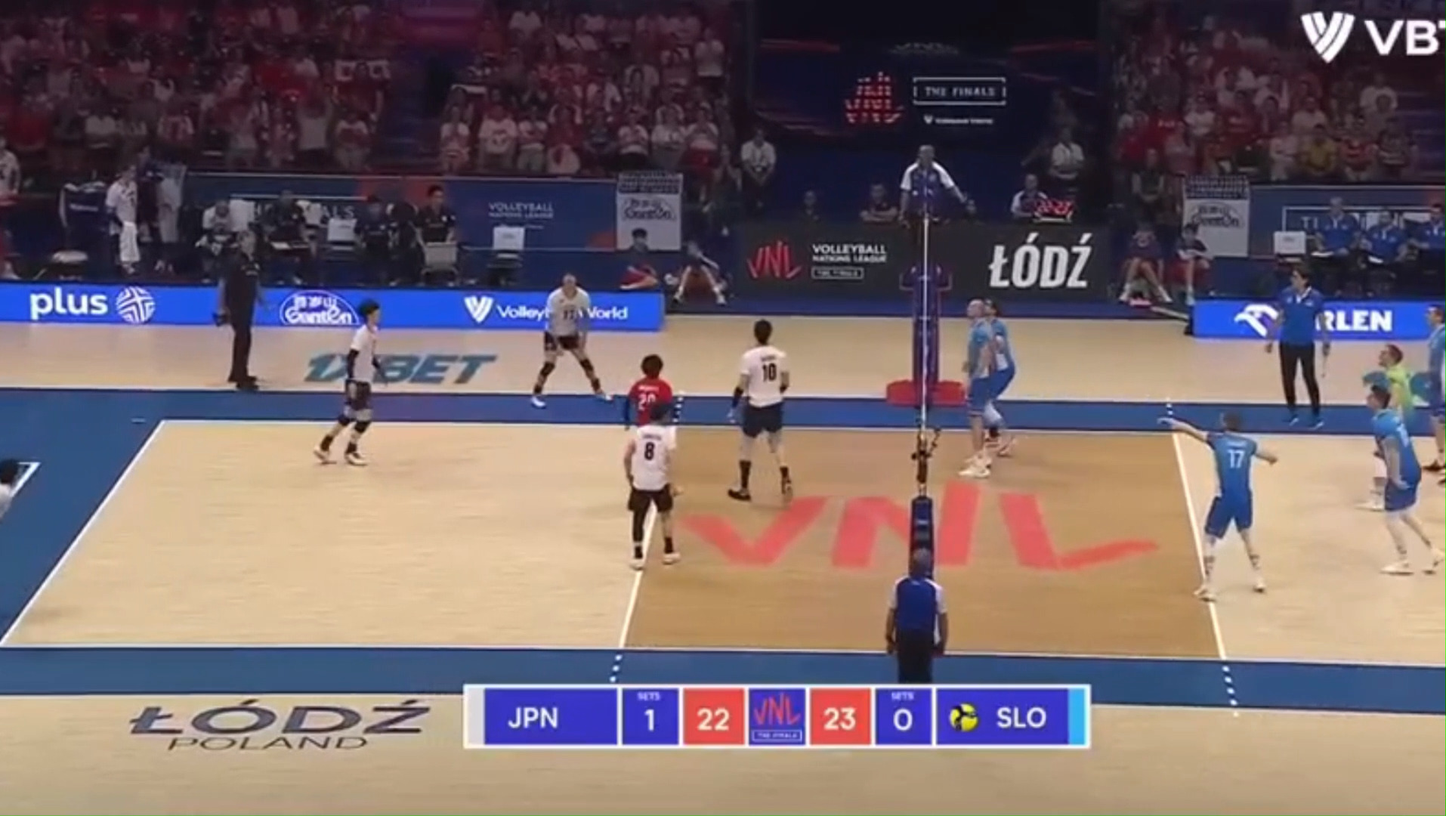player: (1162, 413, 1278, 602), (1367, 386, 1443, 575), (959, 299, 997, 478), (982, 300, 1017, 410), (1423, 304, 1445, 473), (1380, 344, 1414, 418), (985, 410, 1013, 456)
player 1: (728, 320, 793, 502), (314, 300, 385, 465), (531, 274, 608, 407), (625, 402, 679, 570), (623, 354, 676, 426), (0, 459, 22, 518)
referee: (900, 144, 968, 296), (1265, 267, 1330, 425), (885, 549, 948, 684), (214, 231, 261, 391)
